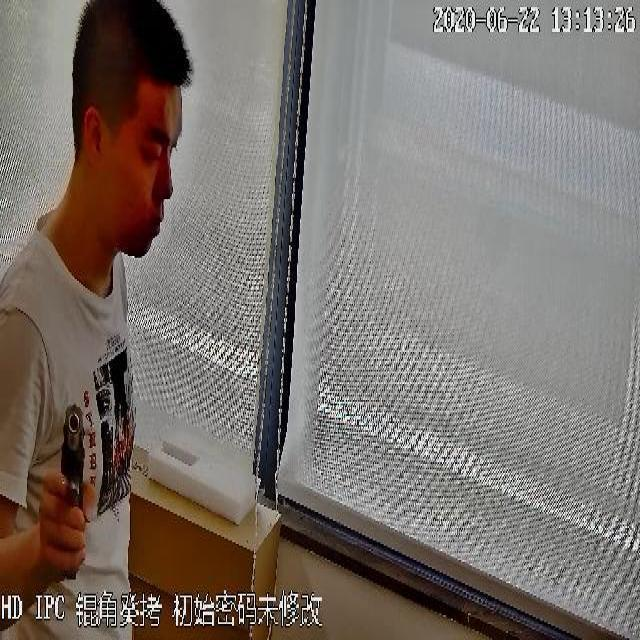pistol: (62, 396, 86, 540)
